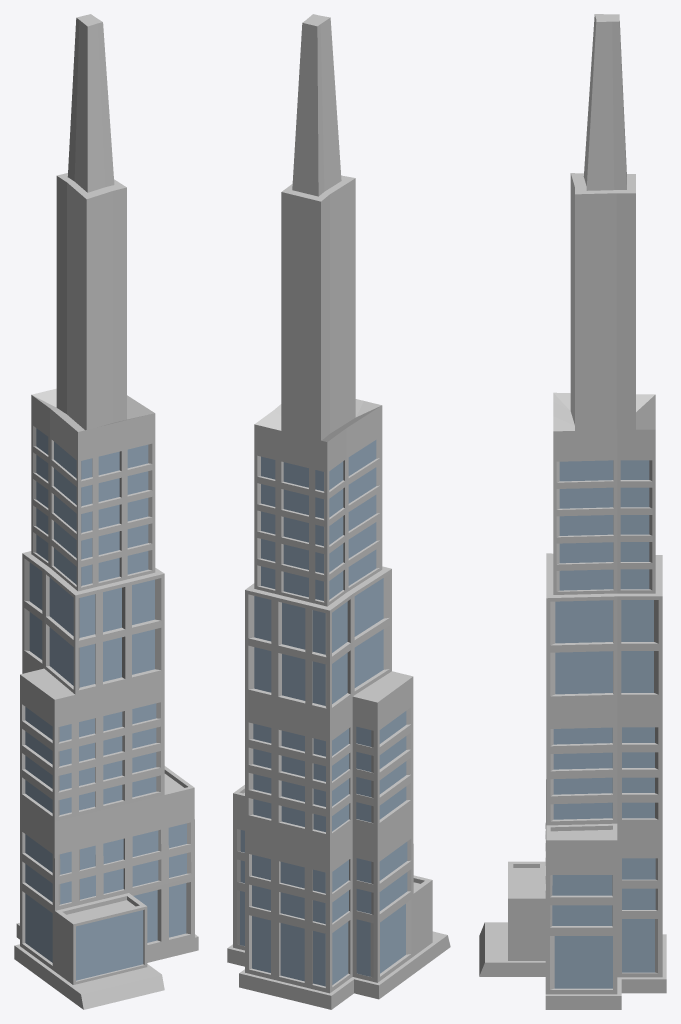
File: Tower.fbx
The picture shows the model from 3 angles, left to right: view 1: azimuth 30°, elevation 25°; view 2: azimuth 150°, elevation 25°; view 3: azimuth 270°, elevation 25°; orthographic projection. The views are drawn at different scales.
Parts seen in each view (by area): view 1: Tower; view 2: Tower; view 3: Tower.
Boxes of the visible parts, x1,y1,x2,y2 form: Tower: (14,14,198,1009); Tower: (227,14,450,1009); Tower: (479,14,666,1009).
Size of the model in its own units: 451 by 2714 by 485.
